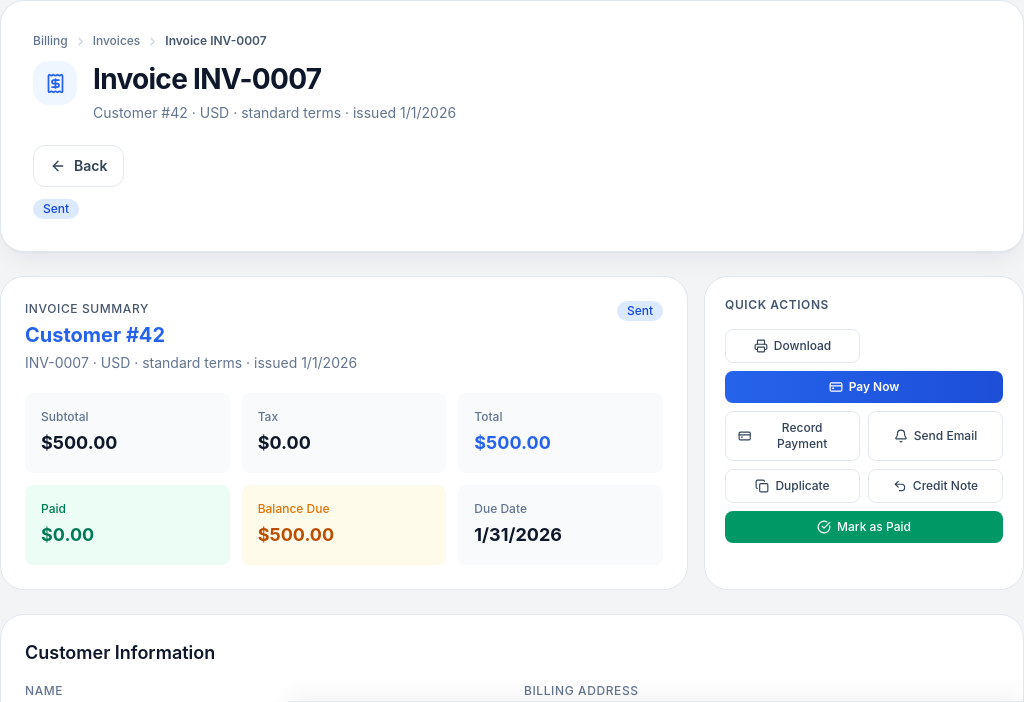
Test: InvoiceDetailPage — Duplicate Invoice › shows the Subscription Limit Reached panel (not silence, not the raw key) when the monthly invoice limit is reached
The image size is (1024, 702).
Expected: the heading "Invoice INV-0007" is shown, [93,62,321,96]
Click the button with aria-label "Duplicate invoice": [792, 486] box [725,469,860,503]
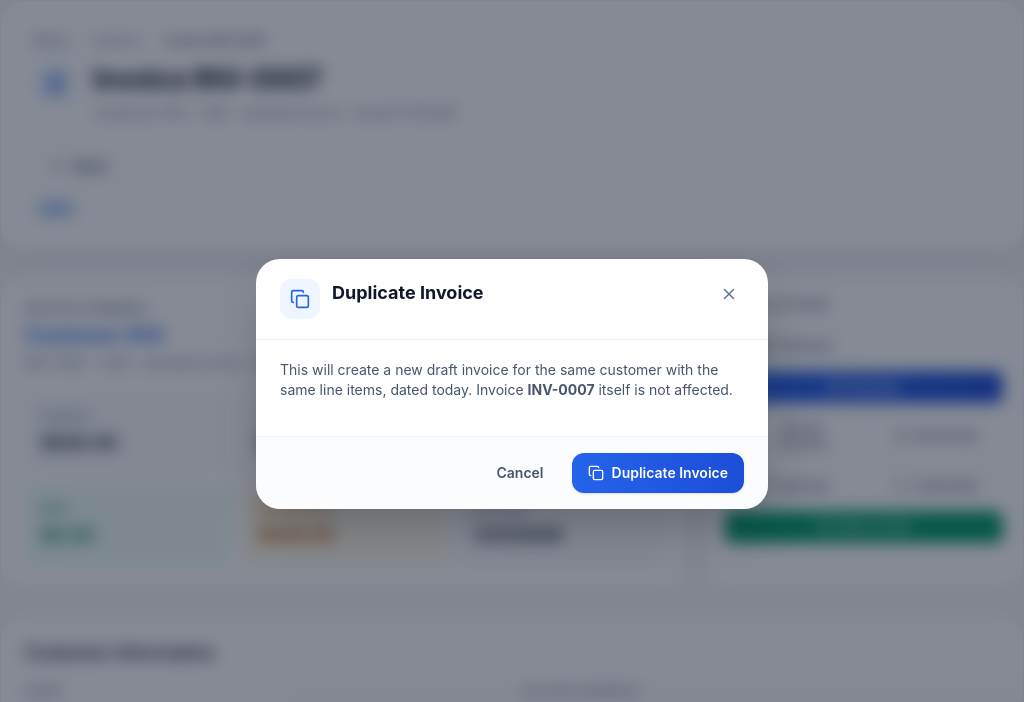
Click the button "Duplicate Invoice": [658, 473] box [572,453,744,493]
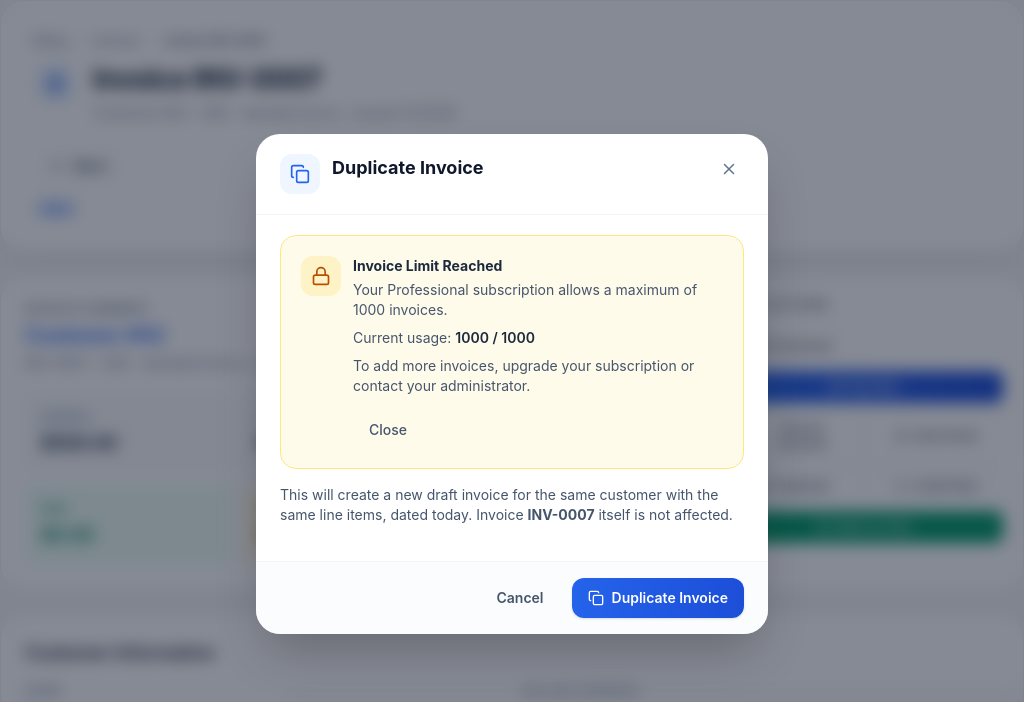
Expected: the heading "Duplicate Invoice" is shown, [332,154,484,182]
Expected: the heading "Invoice Limit Reached" is shown, [353,257,502,274]
